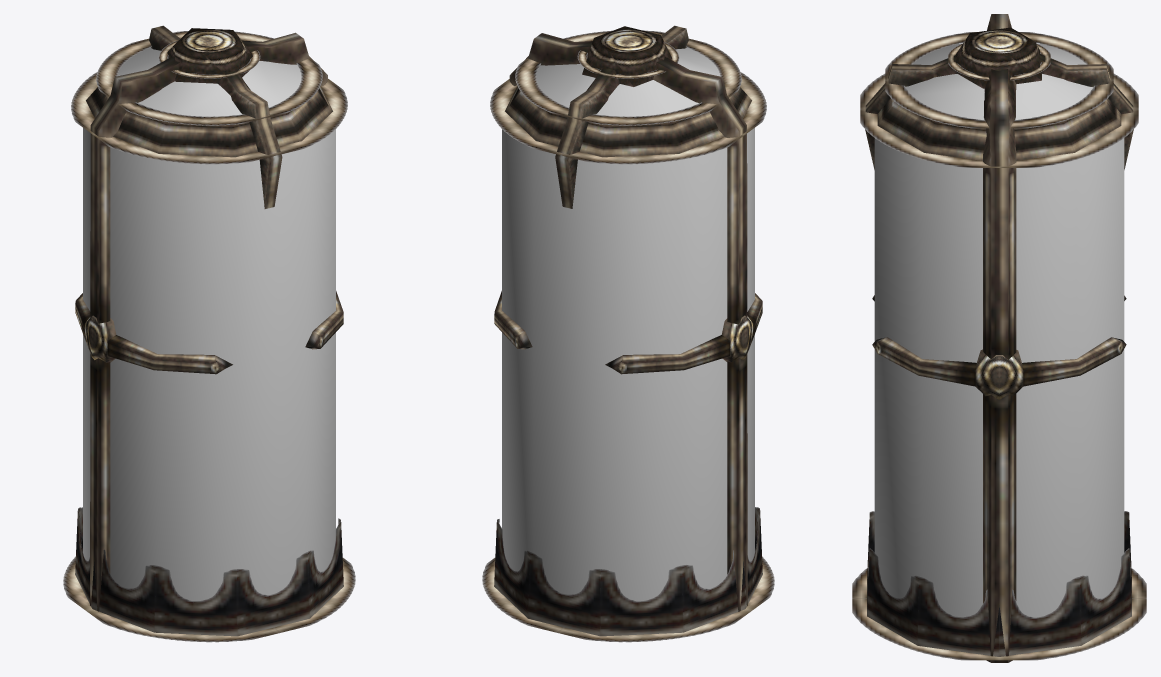
3 renders of one model, left to right at view 1: azimuth 30°, elevation 25°; view 2: azimuth 150°, elevation 25°; view 3: azimuth 270°, elevation 25°, orthographic. The views are drawn at different scales.
Visible parts, largest first — view 1: wj32; view 2: wj32; view 3: wj32.
Boxes of the visible parts, x1=… form: wj32: x1=63, y1=25, x2=355, y2=642; wj32: x1=482, y1=25, x2=774, y2=642; wj32: x1=852, y1=14, x2=1146, y2=662.
Bounding box in the file's own units: 496 × 1047 × 496.
